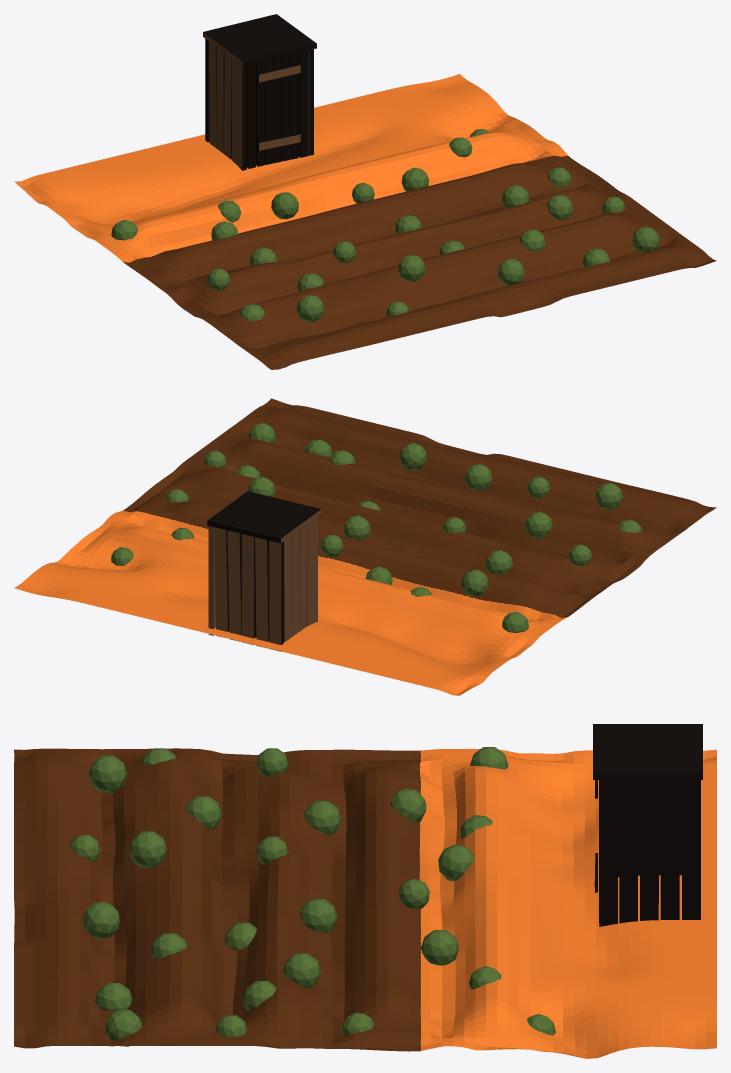
Rendered from farm.fbx.
3 views of the same model, one above another, from view 1: azimuth 30°, elevation 25°; view 2: azimuth 150°, elevation 25°; view 3: azimuth 270°, elevation 25° (orthographic). The views are drawn at different scales.
Visible parts, largest first — view 1: Plane; view 2: Plane; view 3: Plane.
Boxes of the visible parts, x1,y1,x2,y2 form: Plane: [14, 14, 716, 369]; Plane: [14, 398, 716, 695]; Plane: [14, 724, 716, 1058].
Bounding box in the file's own units: 1976 × 557 × 1969.
